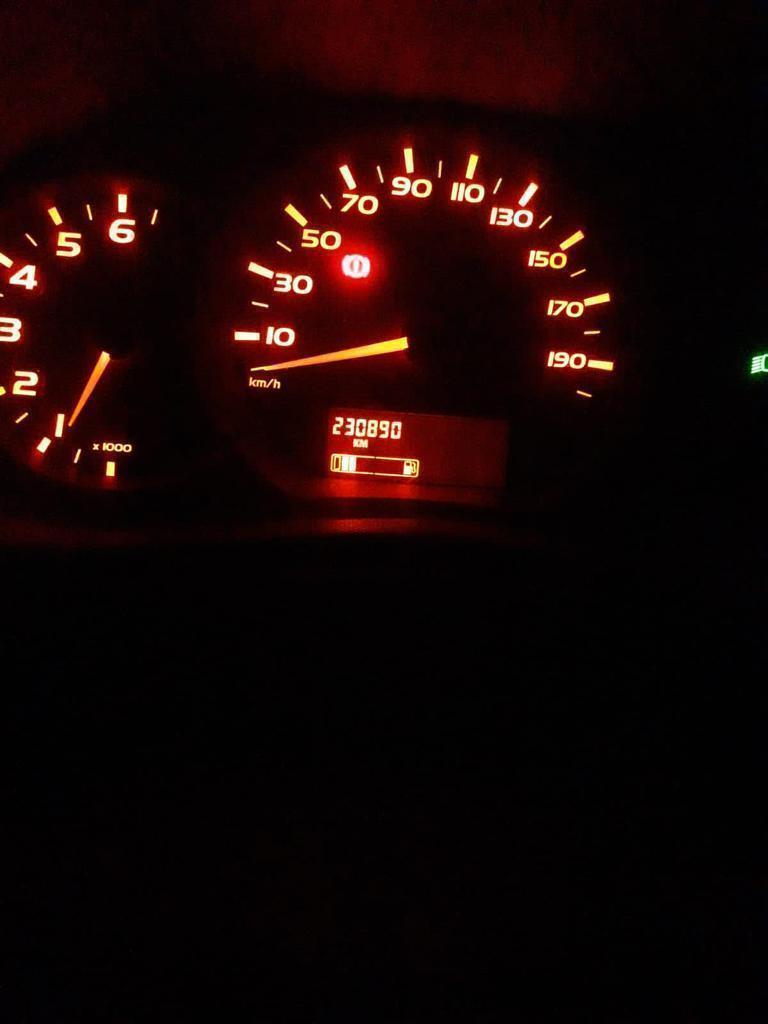0: (390, 419, 402, 439), (355, 416, 367, 436)
2: (331, 415, 343, 437)
3: (344, 416, 355, 436)
8: (367, 418, 378, 437)
9: (378, 418, 389, 438)
X: (359, 437, 369, 448), (353, 437, 359, 449)
odometer: (318, 397, 513, 487)
